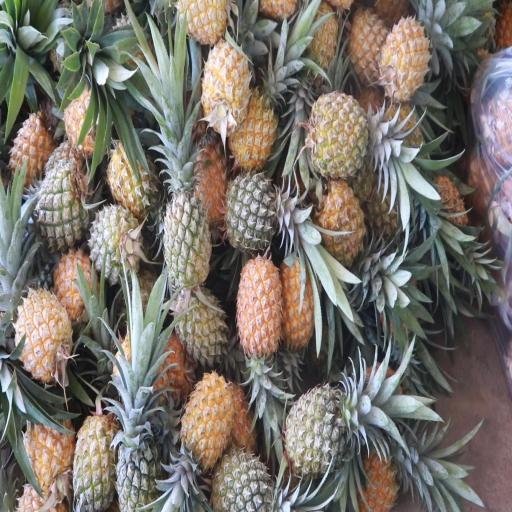------------------------------: (158, 164, 210, 291), (308, 87, 382, 175), (45, 252, 98, 333), (105, 140, 161, 216), (176, 290, 228, 371), (117, 427, 166, 512), (210, 451, 276, 512), (349, 4, 395, 84), (7, 112, 56, 184)
Pineapple - v8 v1: (175, 375, 235, 478), (12, 286, 69, 387), (382, 10, 437, 98), (20, 416, 74, 503), (202, 34, 251, 129), (237, 259, 282, 359), (316, 178, 369, 262), (280, 253, 322, 359), (69, 420, 117, 510), (230, 83, 279, 167)
